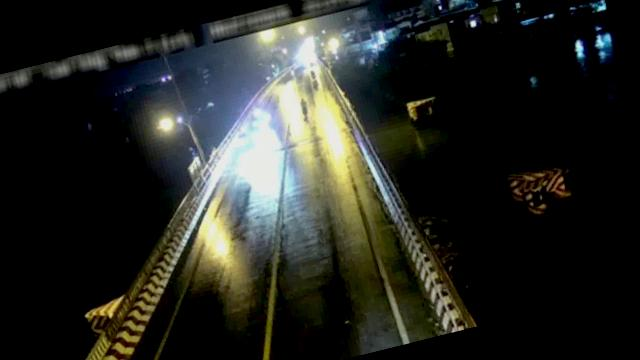Bike: (296, 96, 313, 122)
